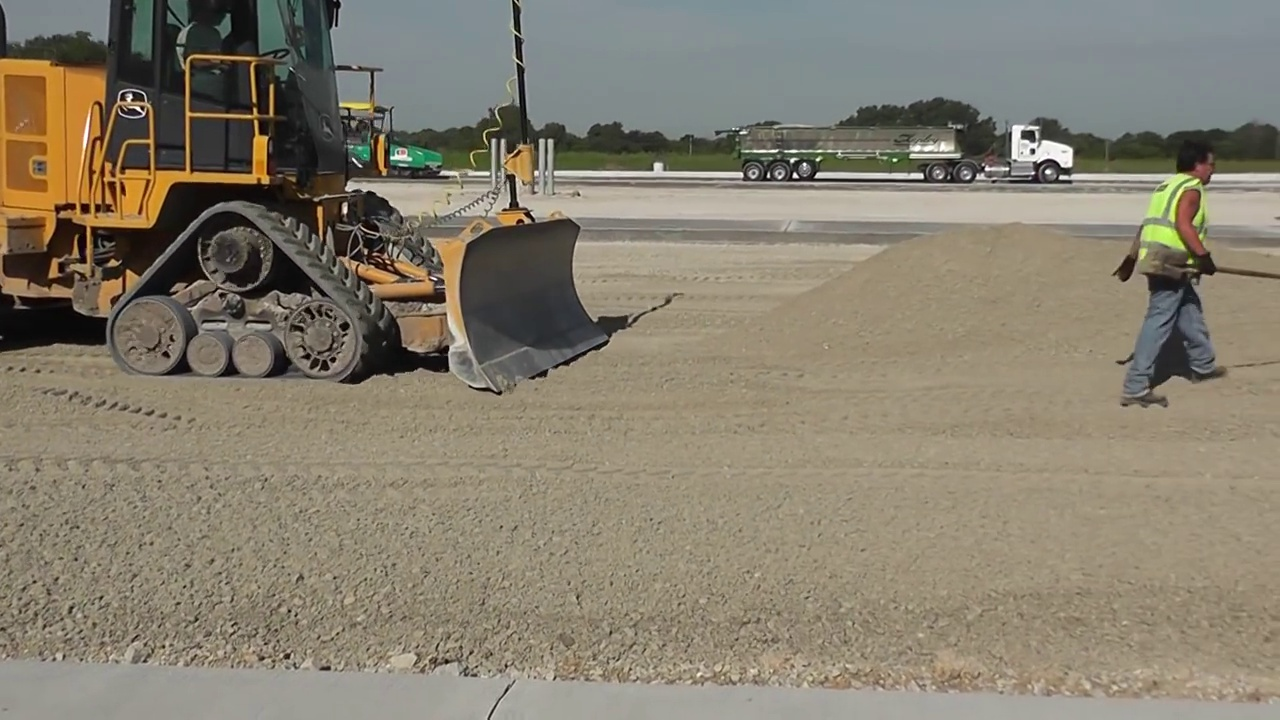bulldozer: (1, 1, 612, 392)
person: (1117, 141, 1227, 417)
truck: (728, 119, 1075, 186)
